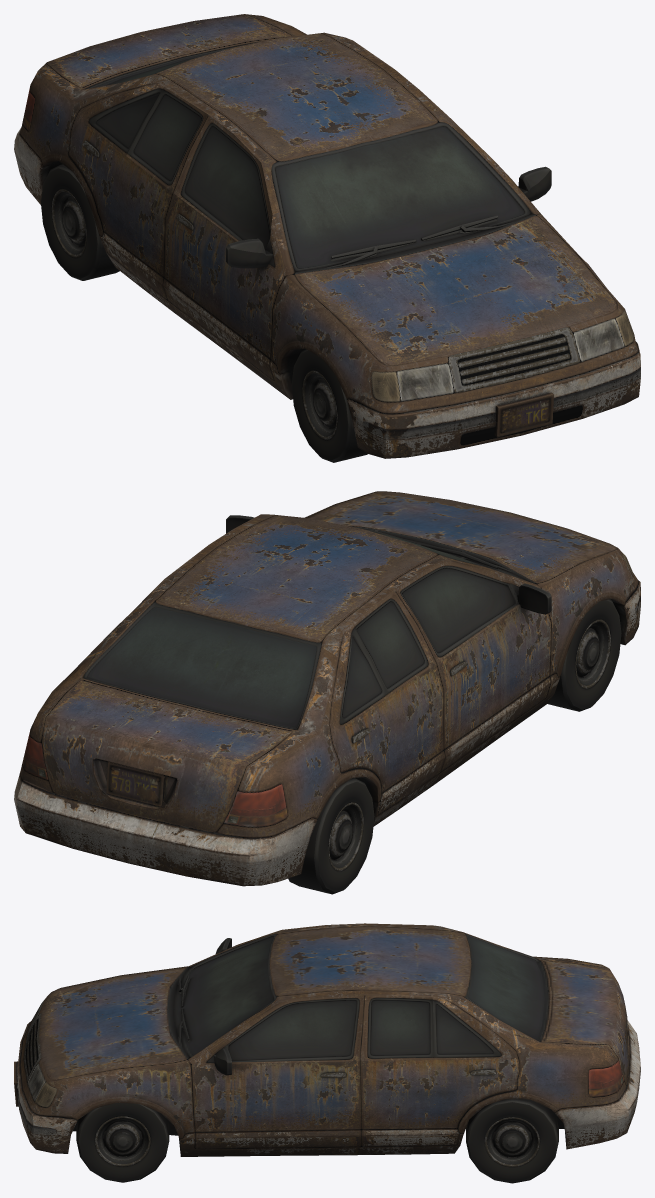
File: wreckedcar_1.fbx
The picture shows the model from 3 angles, top to bottom: view 1: azimuth 30°, elevation 25°; view 2: azimuth 150°, elevation 25°; view 3: azimuth 270°, elevation 25°; orthographic projection. The views are drawn at different scales.
Parts seen in each view (by area): view 1: 003; view 2: 003; view 3: 003.
Boxes of the visible parts, <box> form: 003: <box>14,14,640,462</box>; 003: <box>14,491,640,894</box>; 003: <box>14,923,640,1183</box>.
Size of the model in its own units: 576 by 383 by 1235.
Materials: 1 (1 with a texture image).
